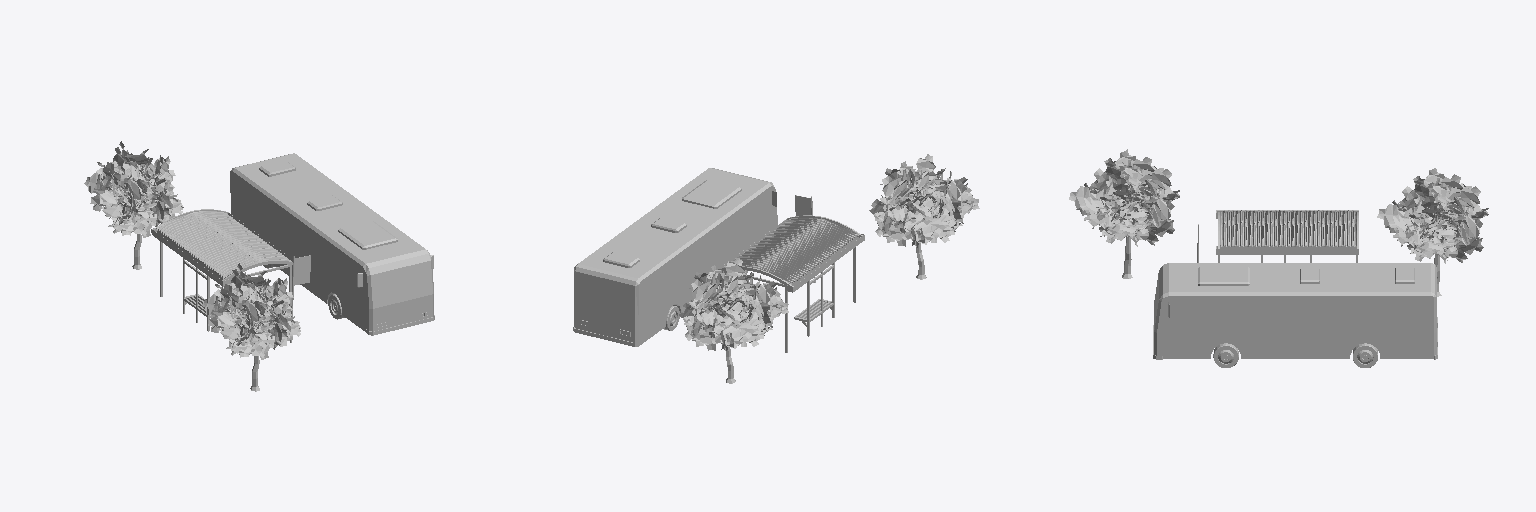
The model's file is BusStop.obj.
3 renders of one model, left to right at view 1: azimuth 30°, elevation 25°; view 2: azimuth 150°, elevation 25°; view 3: azimuth 270°, elevation 25°, orthographic.
Parts seen in each view (by area): view 1: 2, bustop, Cube.001, Cube.002_Cube.003; view 2: 2, bustop, Cube.002_Cube.003, Cube.001; view 3: 2, Cube.001, Cube.002_Cube.003, bustop.
Part boxes in pixels (left/top/right/bottom): 2: left=230, top=153, right=434, bottom=335; bustop: left=151, top=209, right=310, bottom=346; Cube.001: left=202, top=263, right=300, bottom=391; Cube.002_Cube.003: left=84, top=141, right=183, bottom=269; 2: left=573, top=168, right=777, bottom=346; bustop: left=718, top=195, right=864, bottom=352; Cube.002_Cube.003: left=679, top=258, right=788, bottom=383; Cube.001: left=869, top=154, right=979, bottom=279; 2: left=1153, top=263, right=1437, bottom=367; Cube.001: left=1069, top=149, right=1179, bottom=278; Cube.002_Cube.003: left=1377, top=168, right=1488, bottom=296; bustop: left=1197, top=210, right=1358, bottom=262.
Size of the model in its own units: 304 by 139 by 455.